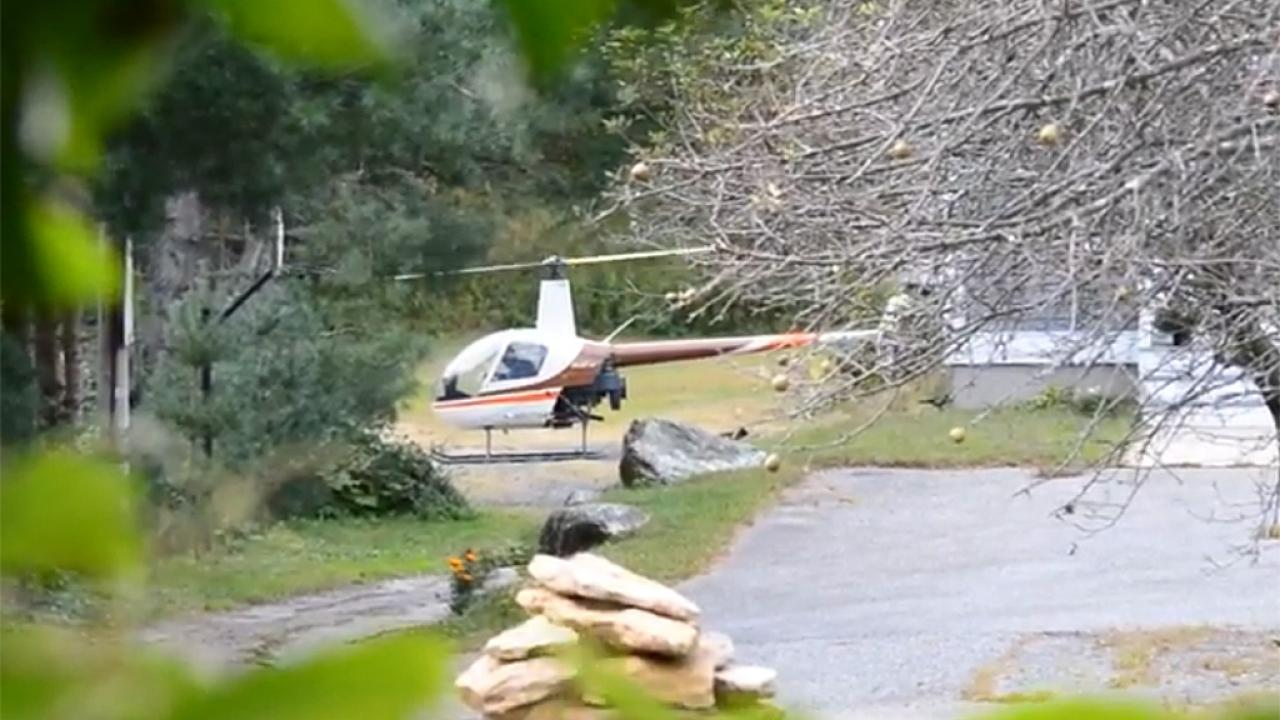Helicopter: (384, 230, 964, 472)
